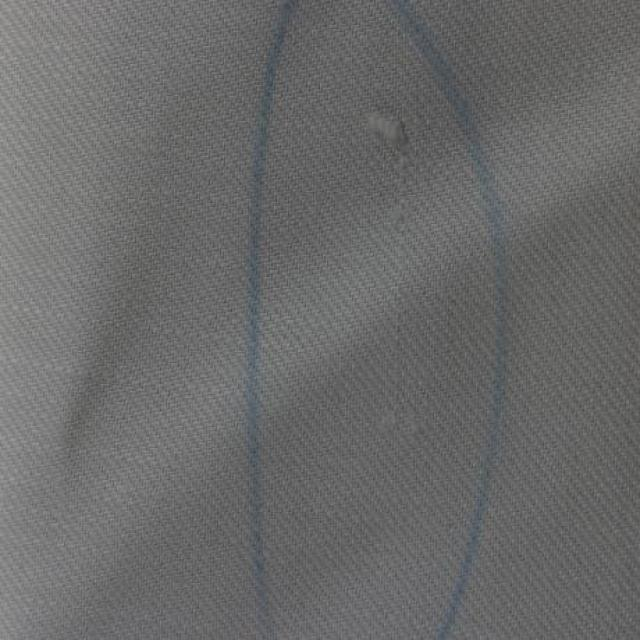Thread_other: (306, 78, 452, 508)
